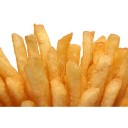frenchfries: (1, 25, 128, 108)
